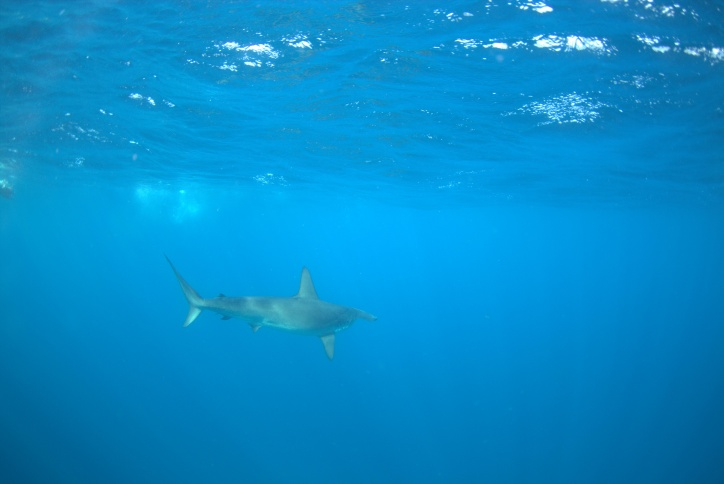Hammer: (150, 243, 400, 382)
